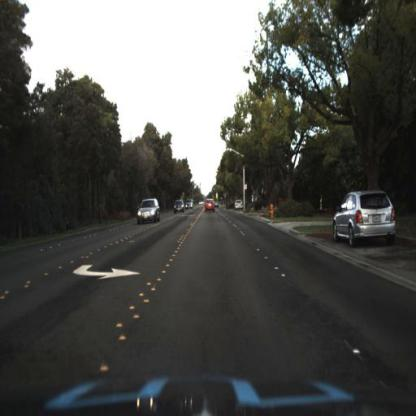car: (332, 193, 400, 249), (135, 198, 164, 226), (137, 197, 162, 228), (202, 197, 218, 220), (174, 201, 186, 217), (234, 196, 245, 211)
